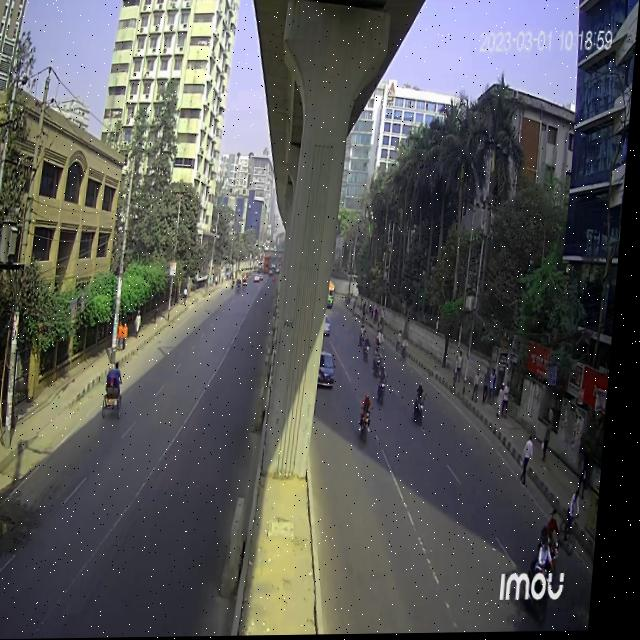rikshaw: (110, 361, 134, 432)
